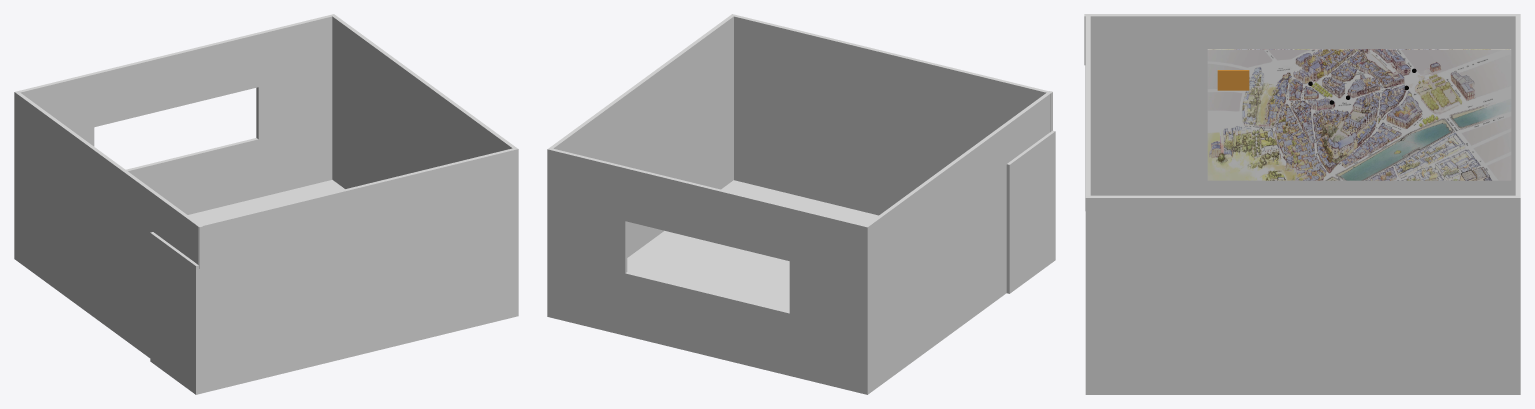
File: maquette-salle-fenetre.fbx
The picture shows the model from 3 angles, left to right: view 1: azimuth 30°, elevation 25°; view 2: azimuth 150°, elevation 25°; view 3: azimuth 270°, elevation 25°; orthographic projection. The views are drawn at different scales.
Visible parts, largest first — view 1: mur1, porte, sol; view 2: mur1, sol, porte; view 3: mur1, carte, porte, sol, ph1.
Part boxes in pixels (bbox=[...]): mur1: bbox=[14, 14, 518, 393]; porte: bbox=[150, 232, 199, 394]; sol: bbox=[121, 180, 518, 393]; mur1: bbox=[547, 14, 1052, 394]; sol: bbox=[627, 180, 1006, 394]; porte: bbox=[1006, 130, 1055, 293]; mur1: bbox=[1084, 14, 1520, 394]; carte: bbox=[1207, 49, 1511, 180]; porte: bbox=[1085, 65, 1192, 210]; sol: bbox=[1085, 390, 1519, 394]; ph1: bbox=[1217, 70, 1249, 90].
Size of the model in its own units: 2019 by 1001 by 2005.
